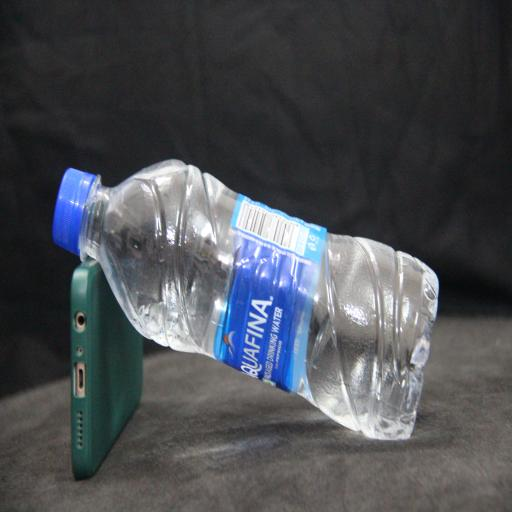Aquafina: (53, 160, 439, 439)
